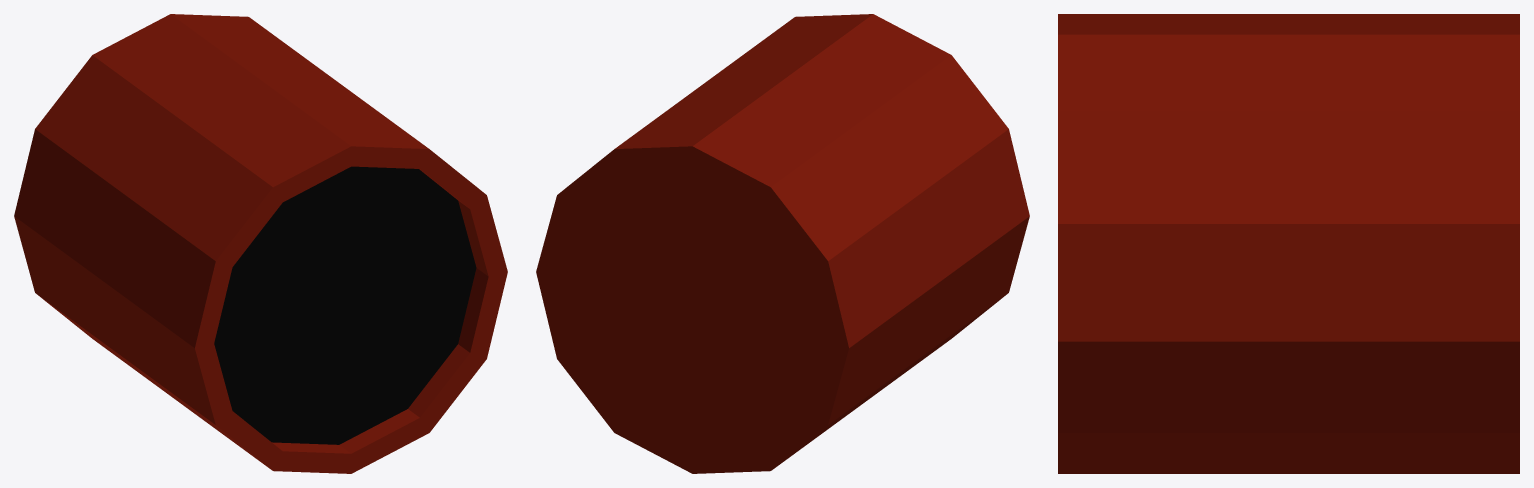
File: RockWallTunnel.glb
The picture shows the model from 3 angles, left to right: view 1: azimuth 30°, elevation 25°; view 2: azimuth 150°, elevation 25°; view 3: azimuth 270°, elevation 25°; orthographic projection. The views are drawn at different scales.
Visible parts, largest first — view 1: Cylinder; view 2: Cylinder; view 3: Cylinder.
Part boxes in pixels (x1=…): Cylinder: x1=14, y1=14, x2=507, y2=473; Cylinder: x1=536, y1=14, x2=1029, y2=473; Cylinder: x1=1058, y1=14, x2=1519, y2=473.
Size of the model in its own units: 10 by 10 by 10.
Materials: 1 (1 with a texture image).
